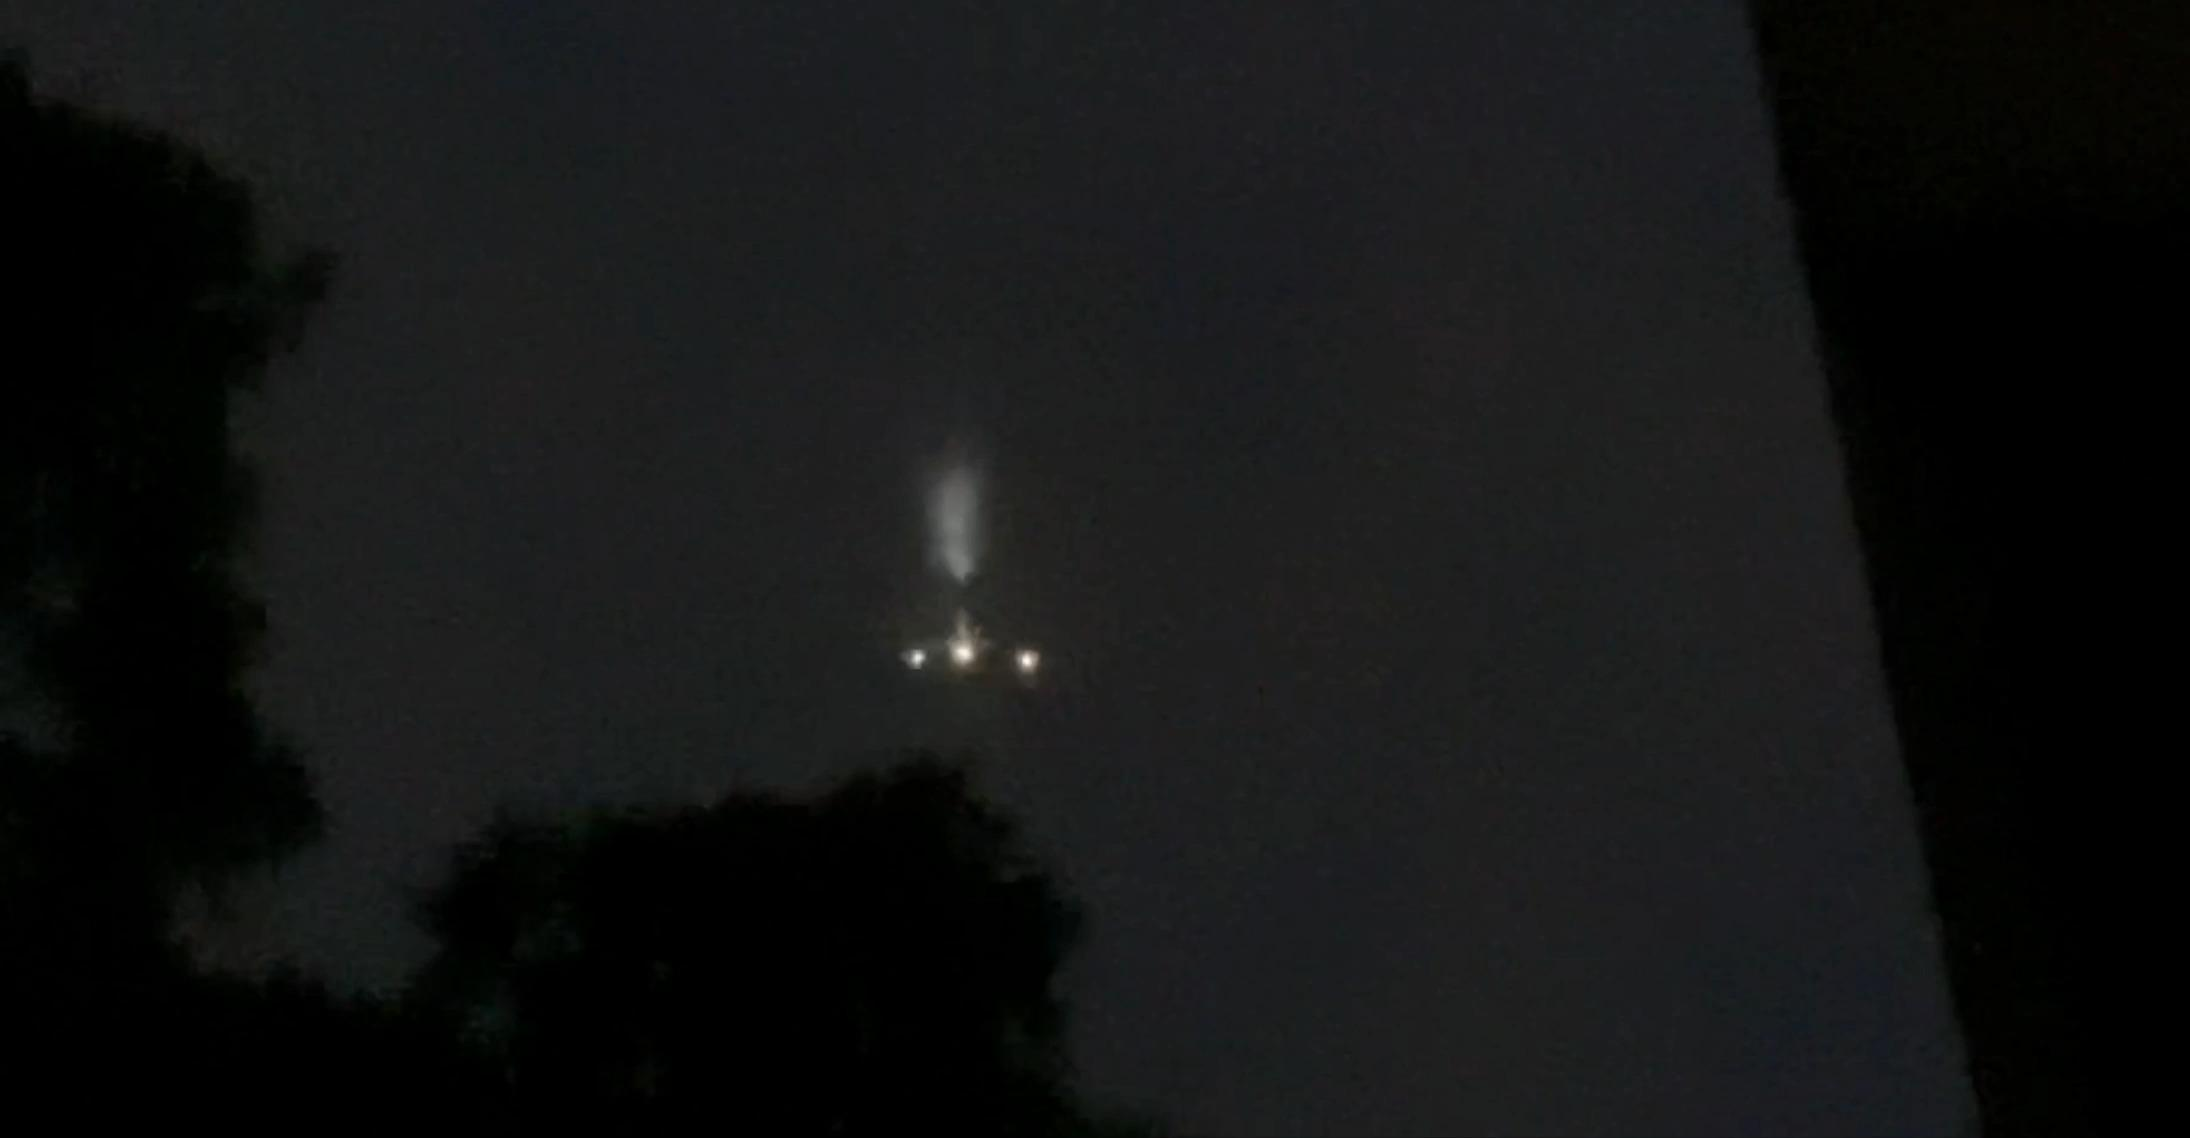Plane: (775, 333, 1159, 769)
